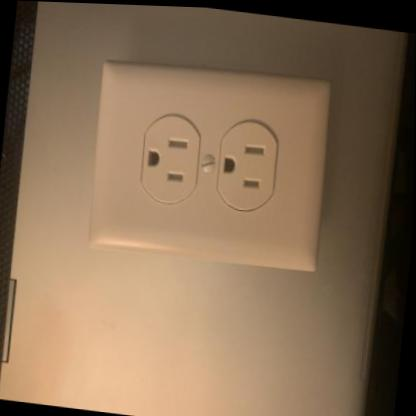OUTLET: (83, 47, 336, 276)
